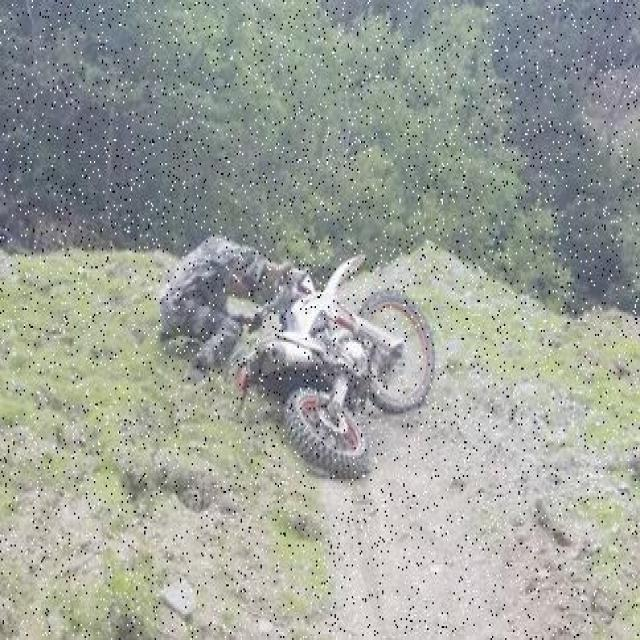fall: (152, 222, 266, 380)
